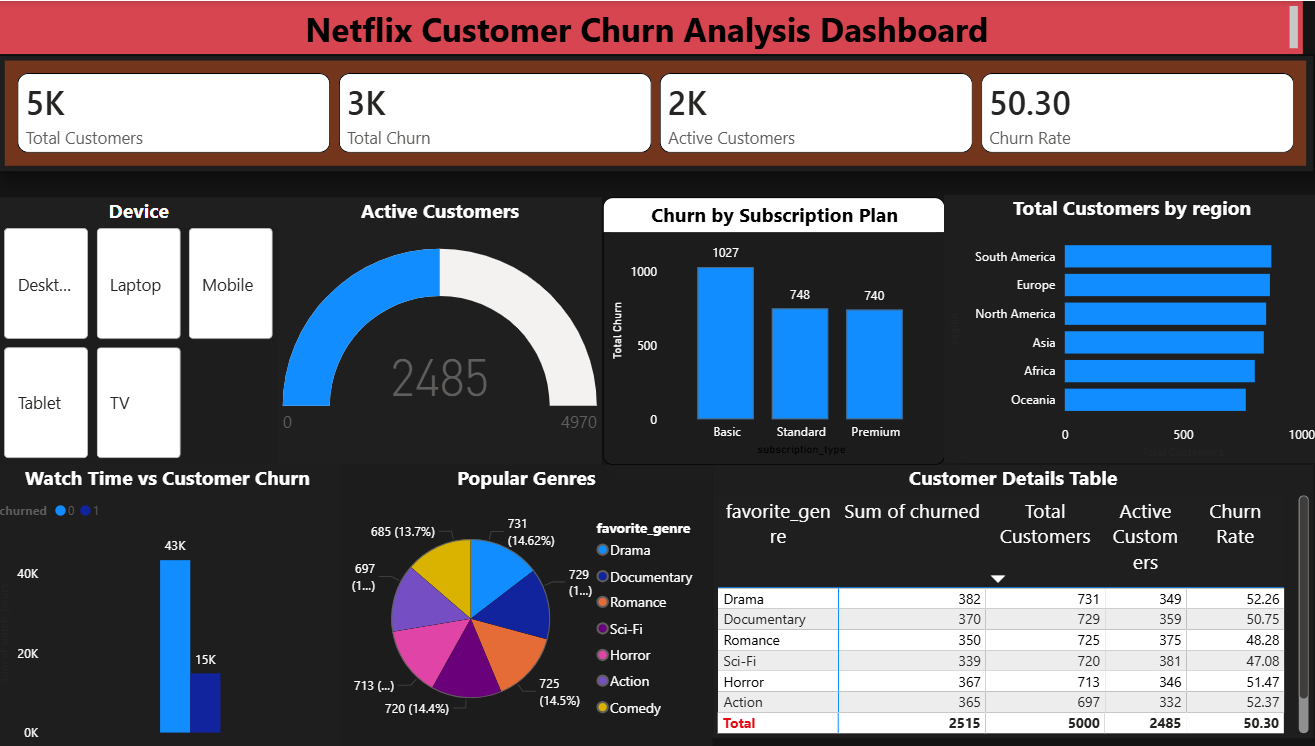

The page's visual inventory and layout, read from the dashboard file:
{"tool":"powerbi","page":{"name":"Page 1","canvas":[1280,720],"ordinal":0},"visuals":[{"type":"columnChart","title":"Churn by Subscription Plan","fields":{"Category":["netflix_customer_churn.subscription_type"],"Y":["netflix_customer_churn.Total Churn"]},"box":[587.2,189,330.4,258.3],"z":0},{"type":"cardVisual","fields":{"Data":["netflix_customer_churn.Total Customers","netflix_customer_churn.Total Churn","netflix_customer_churn.Active Customers","netflix_customer_churn.Churn Rate"]},"box":[4.3,51.9,1269.6,114],"z":1000},{"type":"pieChart","title":"Popular Genres","fields":{"Category":["netflix_customer_churn.favorite_genre"],"Y":["netflix_customer_churn.Total Customers"]},"box":[334.7,447.3,359.2,272.7],"z":2000},{"type":"clusteredColumnChart","title":"Watch Time vs Customer Churn","fields":{"Y":["Sum(netflix_customer_churn.watch_hours)"],"Series":["netflix_customer_churn.churned"]},"box":[0,447.3,334.7,272.7],"z":3000},{"type":"clusteredBarChart","fields":{"Category":["netflix_customer_churn.region"],"Y":["netflix_customer_churn.Total Customers"]},"box":[916.9,187,363.1,259.4],"z":4000},{"type":"textbox","box":[4.3,0,1258.6,51.4],"z":5000},{"type":"pivotTable","title":"Customer Details Table","fields":{"Values":["Sum(netflix_customer_churn.churned)","netflix_customer_churn.Total Customers","netflix_customer_churn.Active Customers","netflix_customer_churn.Churn Rate"],"Rows":["netflix_customer_churn.favorite_genre"]},"box":[694,447.3,580,264],"z":6000},{"type":"advancedSlicerVisual","title":"Device","fields":{"Values":["netflix_customer_churn.device"]},"box":[4.3,189,269.8,258.3],"z":7000},{"type":"gauge","fields":{"Y":["netflix_customer_churn.Active Customers"]},"box":[274.1,189,313.1,258.3],"z":8000}]}

Visuals, with their boxes in screenshot pixels (x1, y1, x2, y2), scaled from the page's 1280x720 canvas onto the 1315x746 screenshot:
"Churn by Subscription Plan" columnChart: x1=603 y1=196 x2=943 y2=463
cardVisual - netflix_customer_churn.Total Customers x netflix_customer_churn.Total Churn: x1=4 y1=54 x2=1309 y2=172
"Popular Genres" pieChart: x1=344 y1=463 x2=713 y2=745
"Watch Time vs Customer Churn" clusteredColumnChart: x1=0 y1=463 x2=344 y2=745
clusteredBarChart - netflix_customer_churn.region x netflix_customer_churn.Total Customers: x1=942 y1=194 x2=1314 y2=463
textbox: x1=4 y1=0 x2=1297 y2=53
"Customer Details Table" pivotTable: x1=713 y1=463 x2=1309 y2=737
"Device" advancedSlicerVisual: x1=4 y1=196 x2=282 y2=463
gauge - netflix_customer_churn.Active Customers: x1=282 y1=196 x2=603 y2=463
